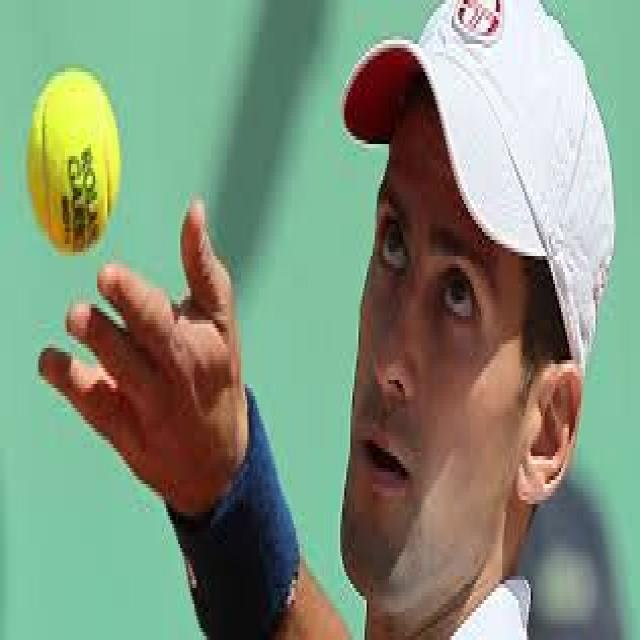Tennis-Ball: (23, 62, 124, 255)
